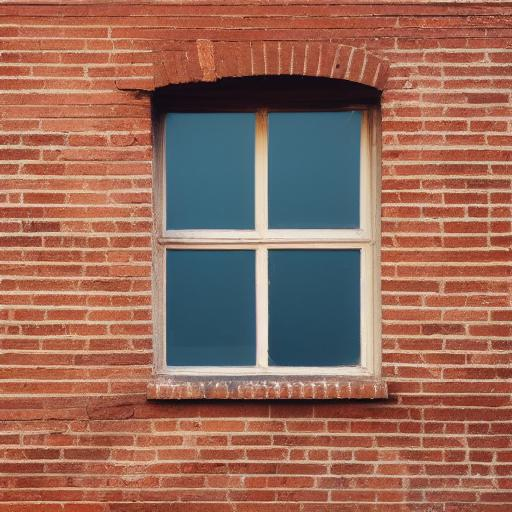Window: (144, 42, 392, 403)
